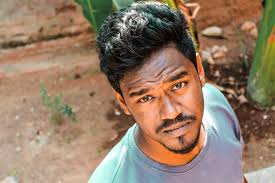s.black: (171, 93, 203, 115)
